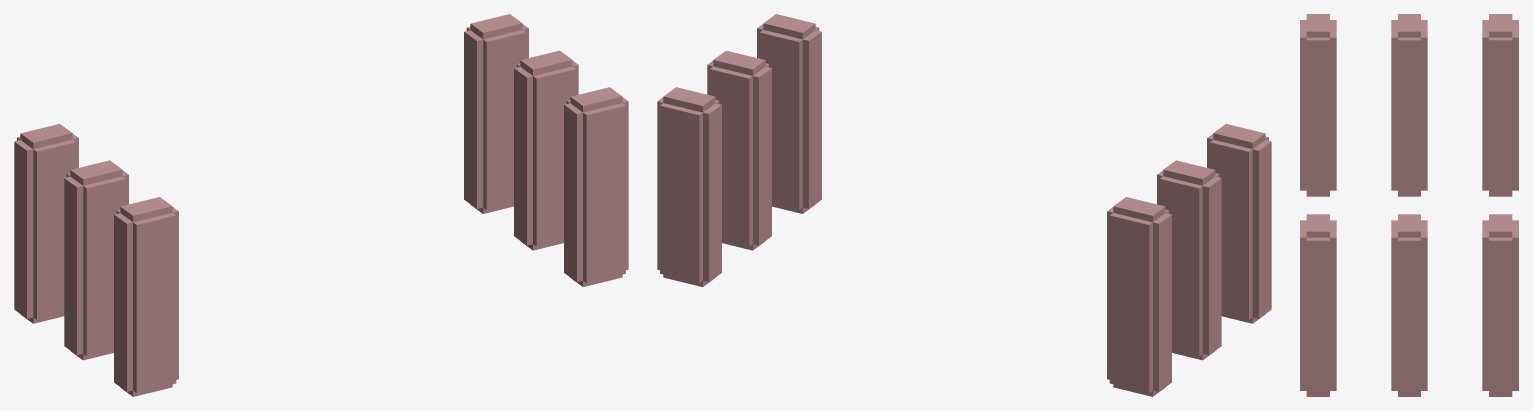
File: gill-lines.glb
3 renders of one model, left to right at view 1: azimuth 30°, elevation 25°; view 2: azimuth 150°, elevation 25°; view 3: azimuth 270°, elevation 25°, orthographic. The views are drawn at different scales.
Parts seen in each view (by area): view 1: Gill_r_0, Gill_l_0, Gill_r_2, Gill_l_1, Gill_r_1, Gill_l_2; view 2: Gill_r_2, Gill_l_2, Gill_r_0, Gill_l_1, Gill_r_1, Gill_l_0; view 3: Gill_l_0, Gill_l_2, Gill_r_0, Gill_r_2, Gill_l_1, Gill_r_1.
Boxes of the visible parts, x1,y1,x2,y2 form: Gill_r_0: [114, 197, 178, 396]; Gill_l_0: [564, 87, 628, 286]; Gill_r_2: [14, 124, 78, 323]; Gill_l_1: [514, 50, 578, 250]; Gill_r_1: [64, 160, 128, 360]; Gill_l_2: [464, 14, 528, 213]; Gill_r_2: [1107, 197, 1171, 396]; Gill_l_2: [657, 87, 721, 286]; Gill_r_0: [1207, 124, 1271, 323]; Gill_l_1: [707, 50, 771, 250]; Gill_r_1: [1157, 160, 1221, 360]; Gill_l_0: [757, 14, 821, 213]; Gill_l_0: [1300, 214, 1336, 396]; Gill_l_2: [1482, 214, 1518, 396]; Gill_r_0: [1300, 14, 1336, 196]; Gill_r_2: [1482, 14, 1518, 196]; Gill_l_1: [1391, 214, 1427, 396]; Gill_r_1: [1391, 14, 1427, 196].
Bounding box in the file's own units: 0.116 × 0.04 × 0.048.
